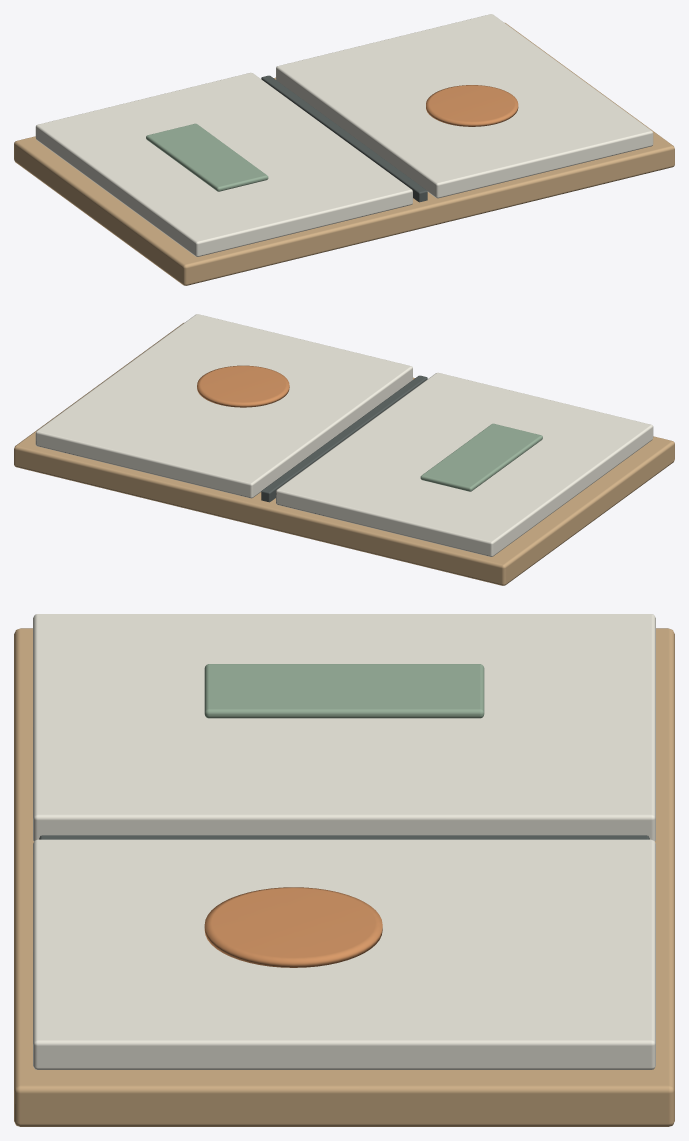
Rendered from public-library-and-reading-garden-public-library-and-r-69567958__30935.glb.
The picture shows the model from 3 angles, top to bottom: view 1: azimuth 30°, elevation 25°; view 2: azimuth 150°, elevation 25°; view 3: azimuth 270°, elevation 25°; orthographic projection. The views are drawn at different scales.
Visible parts, largest first — view 1: public-library-and-reading-garden-picture-book; view 2: public-library-and-reading-garden-picture-book; view 3: public-library-and-reading-garden-picture-book.
Part boxes in pixels (<box>): public-library-and-reading-garden-picture-book: <box>14,14,674,285</box>; public-library-and-reading-garden-picture-book: <box>14,314,674,585</box>; public-library-and-reading-garden-picture-book: <box>14,614,674,1126</box>.
Size of the model in its own units: 0.43 by 0.036 by 0.26.
